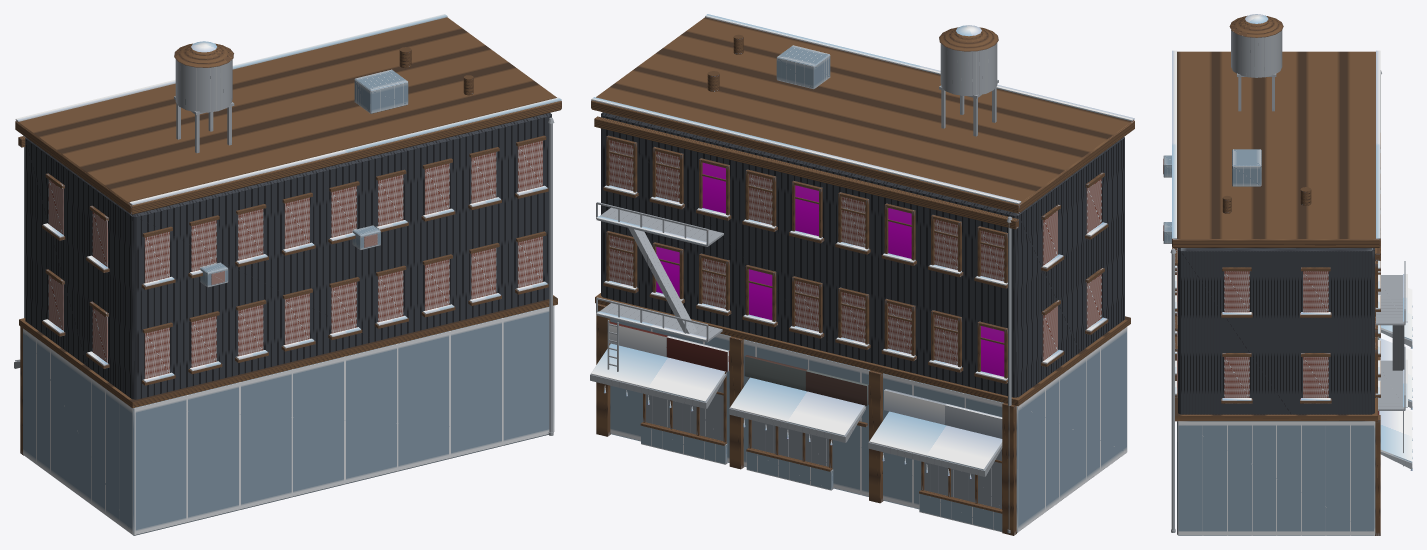
The model's file is ck_shop_row_three.fbx.
3 views of the same model, side by side, from view 1: azimuth 30°, elevation 25°; view 2: azimuth 150°, elevation 25°; view 3: azimuth 270°, elevation 25° (orthographic). The views are drawn at different scales.
Visible parts, largest first — view 1: ck_shop_row_three; view 2: ck_shop_row_three; view 3: ck_shop_row_three.
Boxes of the visible parts, left/top/right/bottom form: ck_shop_row_three: left=14, top=14, right=561, bottom=535; ck_shop_row_three: left=590, top=14, right=1134, bottom=535; ck_shop_row_three: left=1163, top=14, right=1412, bottom=535.
Size of the model in its own units: 4400 by 4206 by 2469.
